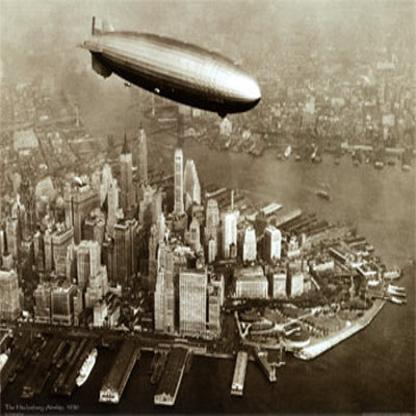Airship: (79, 14, 268, 127)
